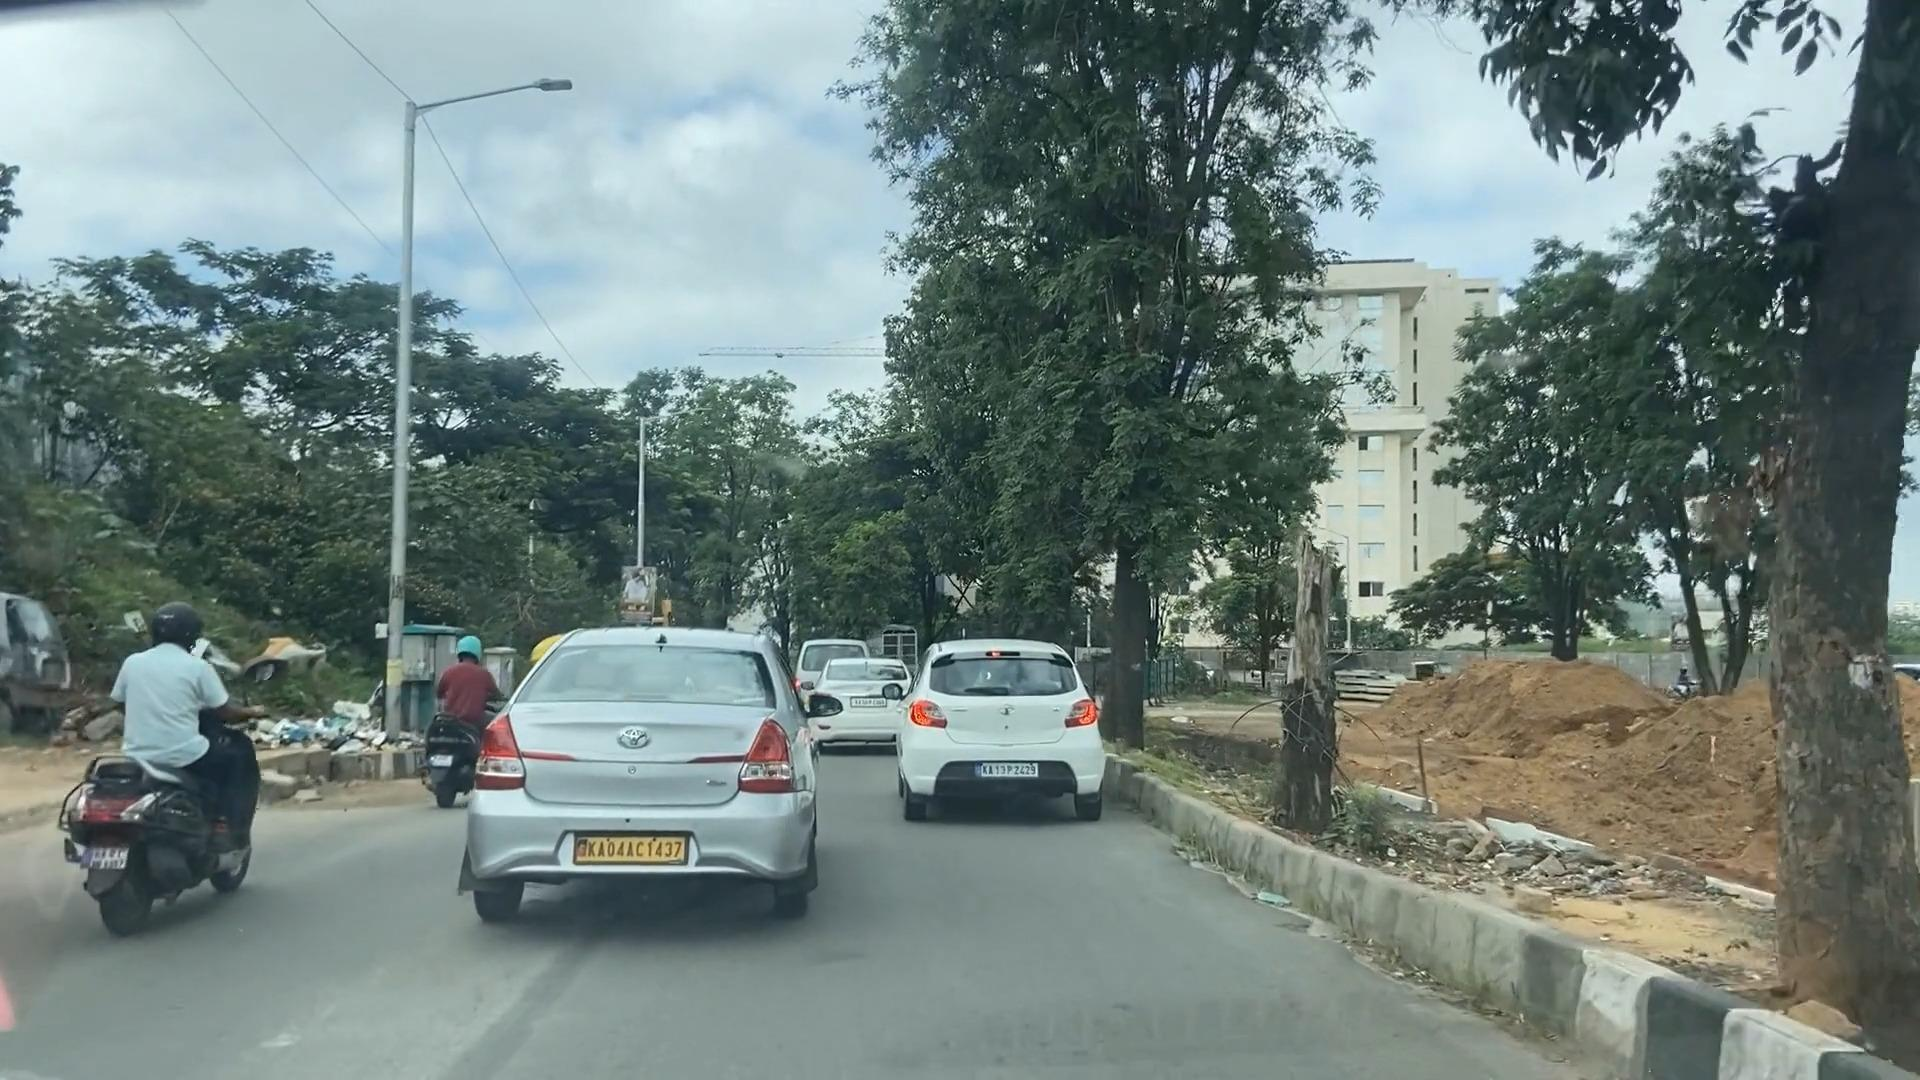LMV: (477, 661, 793, 899), (80, 600, 249, 906), (914, 661, 1087, 811), (434, 646, 475, 785)
